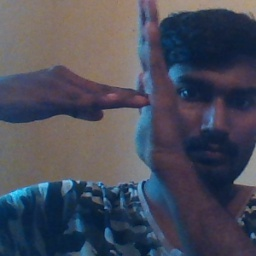Z: (73, 4, 187, 171)
